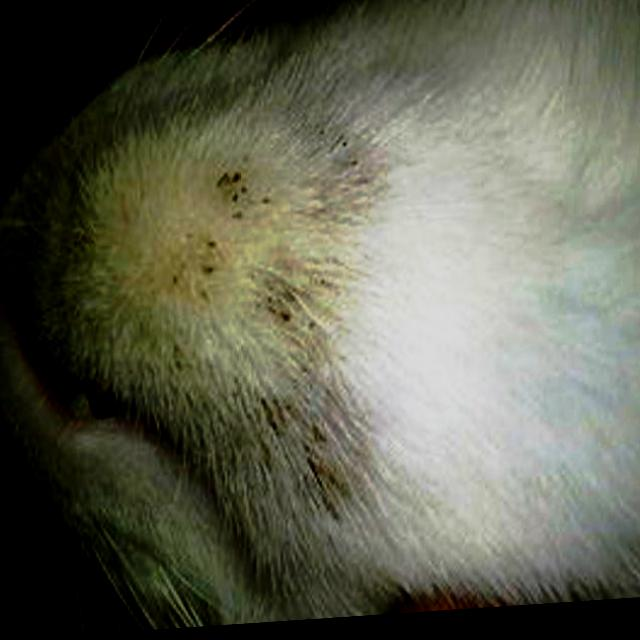acne: (211, 125, 364, 350)
